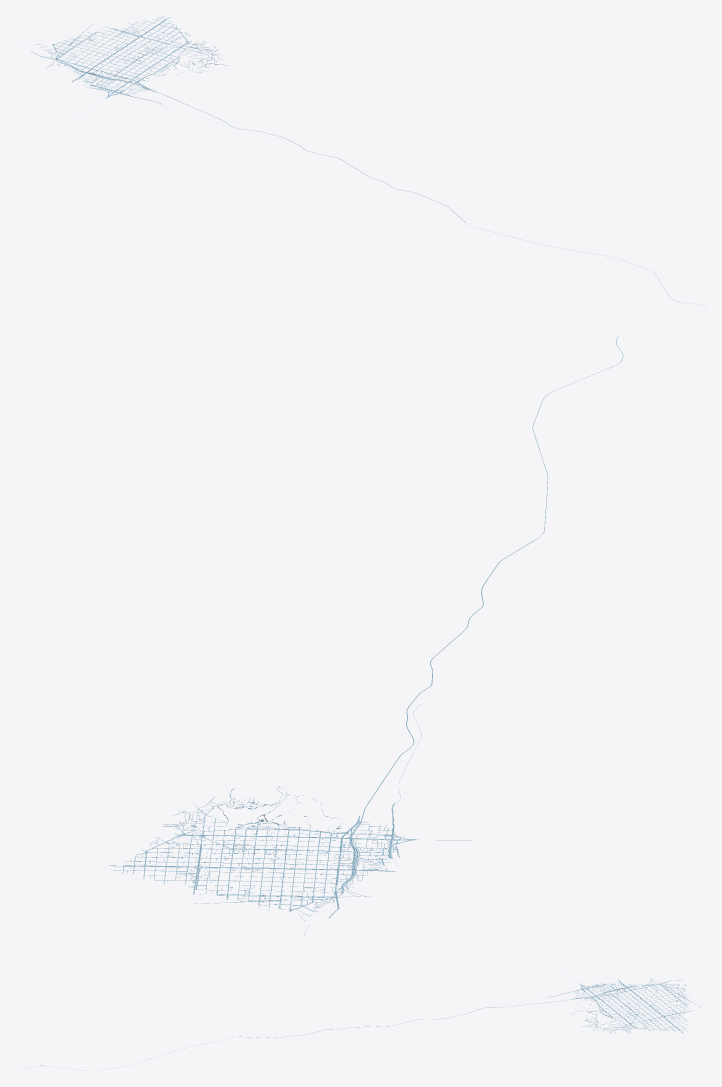
File: roads.glb
3 views of the same model, one above another, from view 1: azimuth 30°, elevation 25°; view 2: azimuth 150°, elevation 25°; view 3: azimuth 270°, elevation 25° (orthographic). The views are drawn at different scales.
Parts seen in each view (by area): view 1: roads; view 2: roads; view 3: roads.
Boxes of the visible parts, bbox=[...] form: roads: bbox=[29, 14, 704, 306]; roads: bbox=[99, 336, 623, 936]; roads: bbox=[15, 978, 700, 1072].
Bounding box in the file's own units: 6033 × 162 × 16411.
